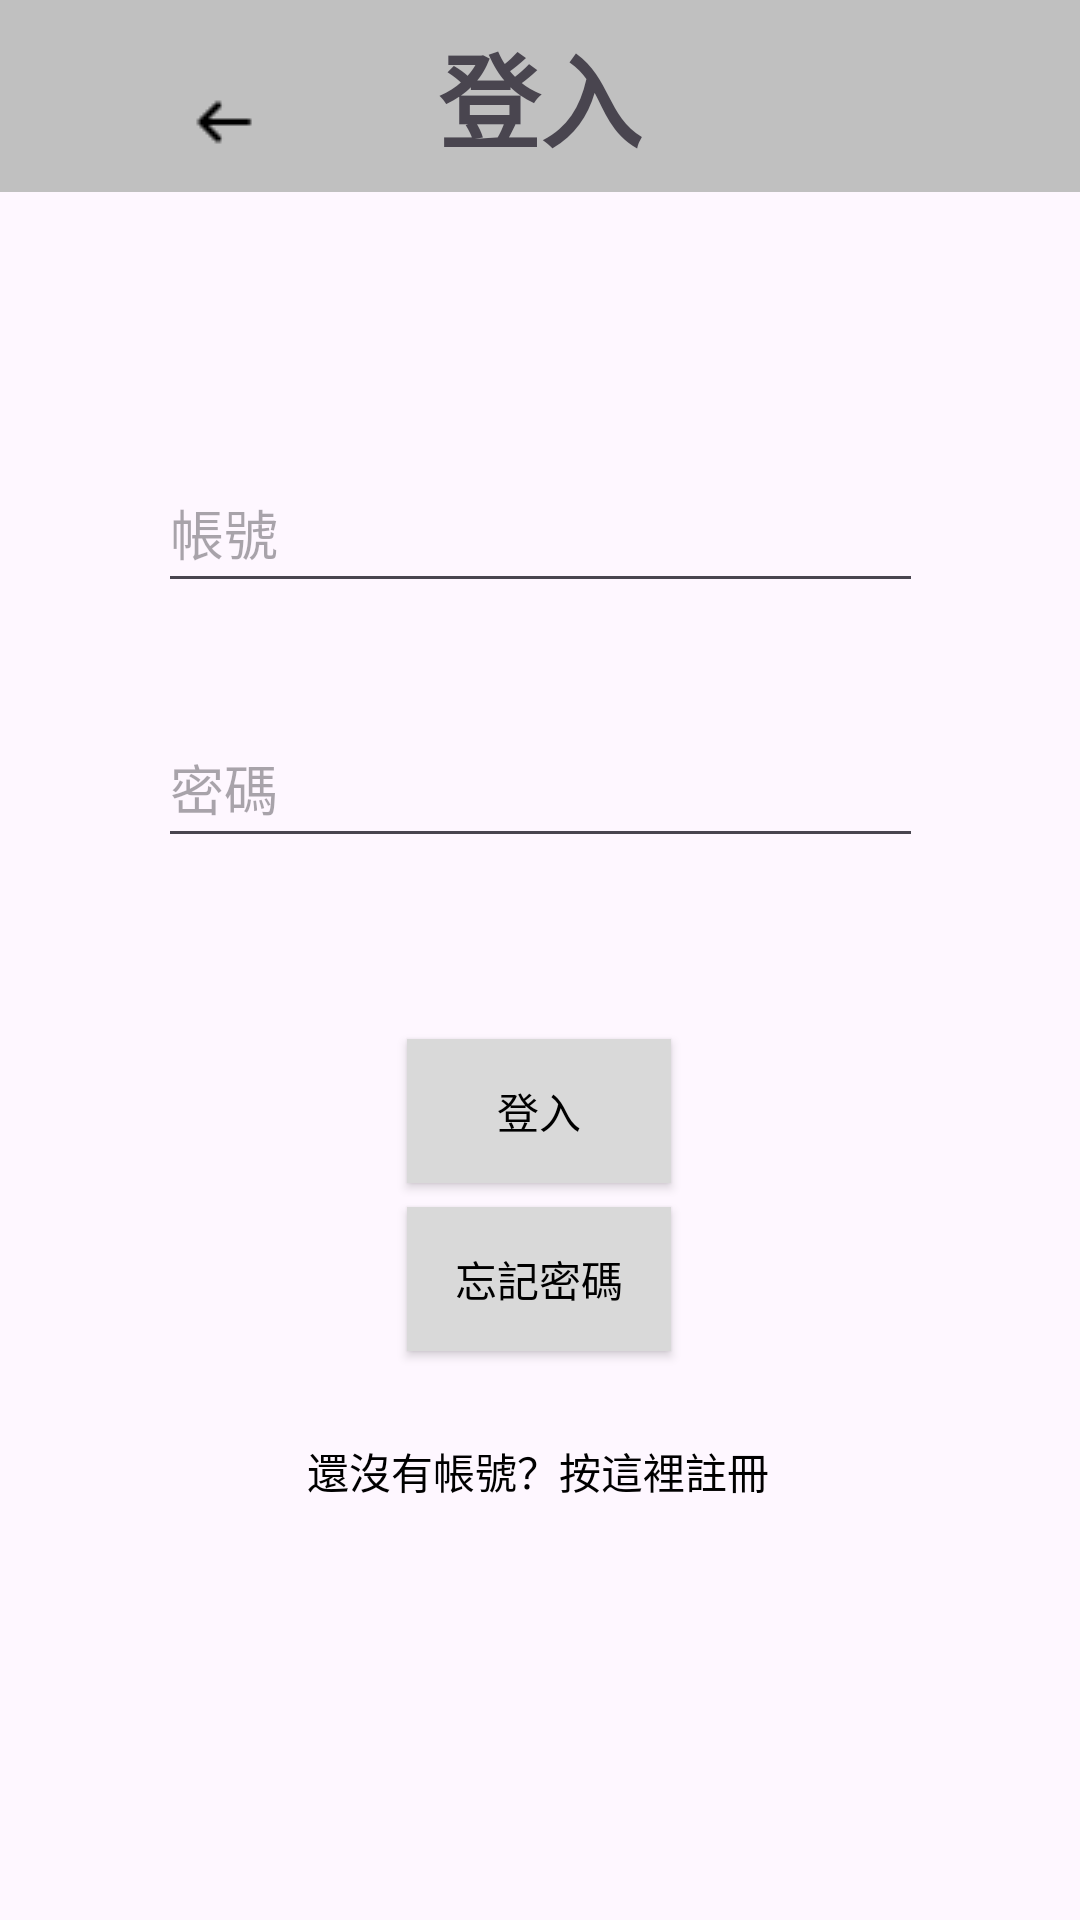

Named icons in this screenshot (1080×1920) and their bounding boxes, (x1, y1, x2, y2):
arrow left: (196, 100, 252, 144)
